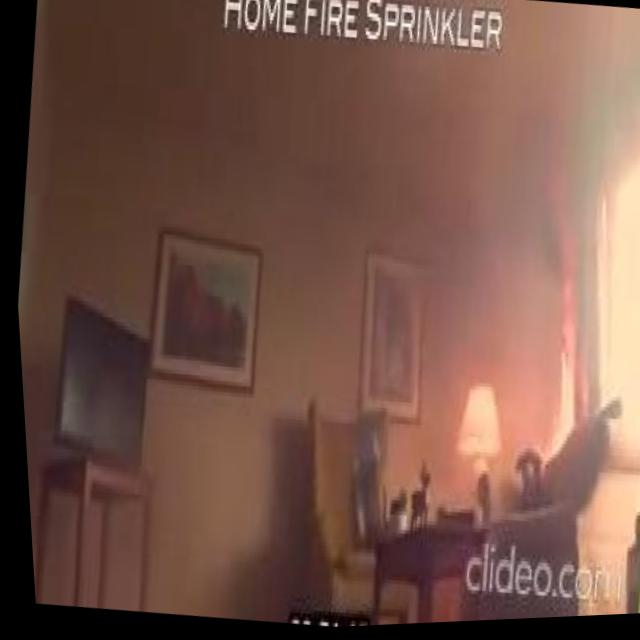fire: (508, 230, 597, 477)
